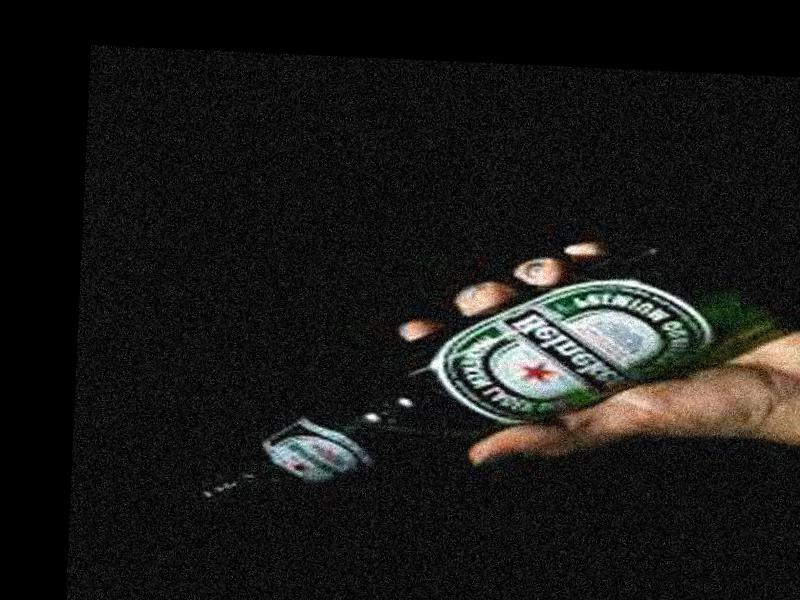Beer: (177, 215, 800, 536)
